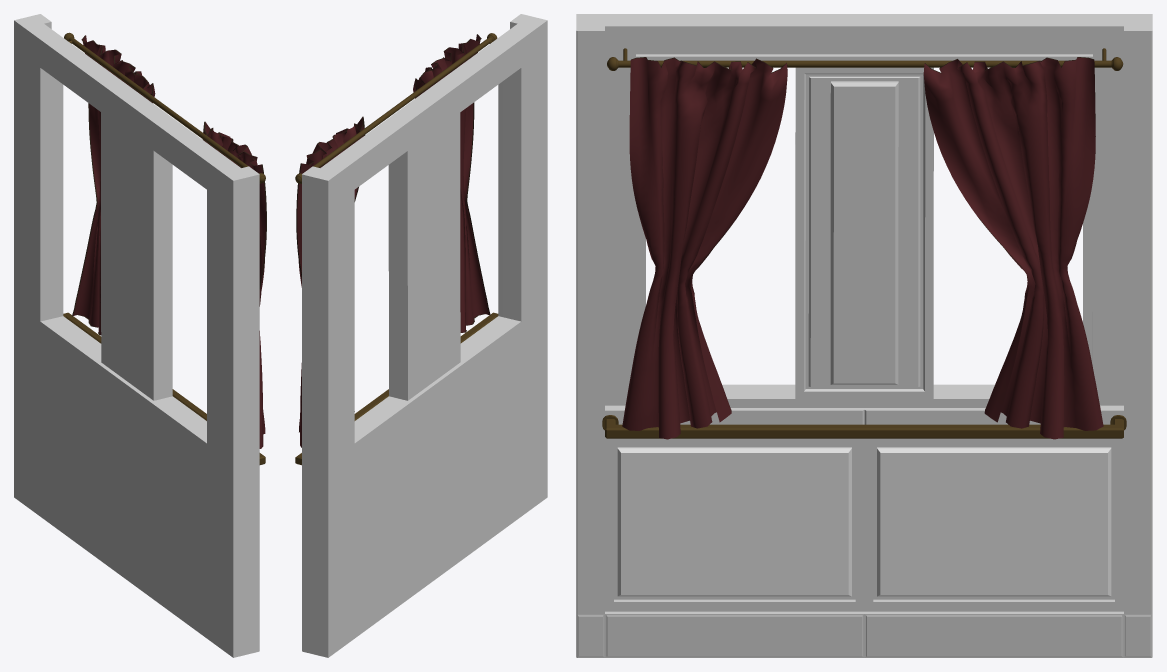
File: Wall_Window 1 + Handrail.fbx
3 renders of one model, left to right at view 1: azimuth 30°, elevation 25°; view 2: azimuth 150°, elevation 25°; view 3: azimuth 270°, elevation 25°, orthographic. The views are drawn at different scales.
Parts seen in each view (by area): view 1: Wall_Window 1 + Handrail; view 2: Wall_Window 1 + Handrail; view 3: Wall_Window 1 + Handrail.
Part boxes in pixels (x1,y1,x2,y2): Wall_Window 1 + Handrail: (14, 14, 266, 657); Wall_Window 1 + Handrail: (295, 14, 547, 657); Wall_Window 1 + Handrail: (576, 14, 1152, 657).
Size of the model in its own units: 35.16 by 240 by 200.
